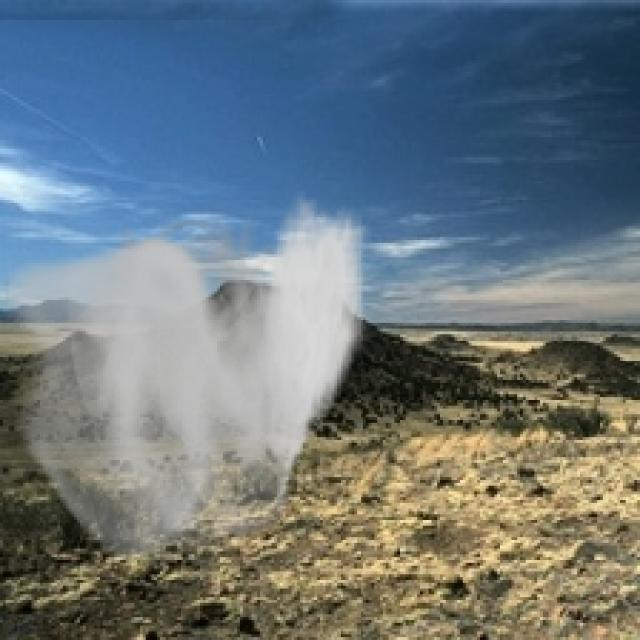smoke: (6, 192, 371, 572)
